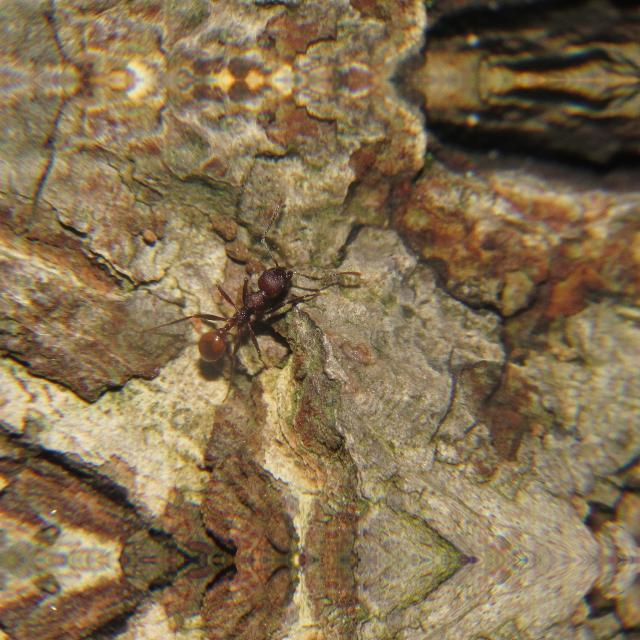Apheanogaster: (177, 242, 325, 370)
